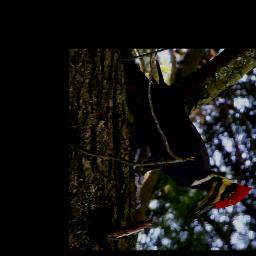Woodpecker: (118, 49, 254, 218)
